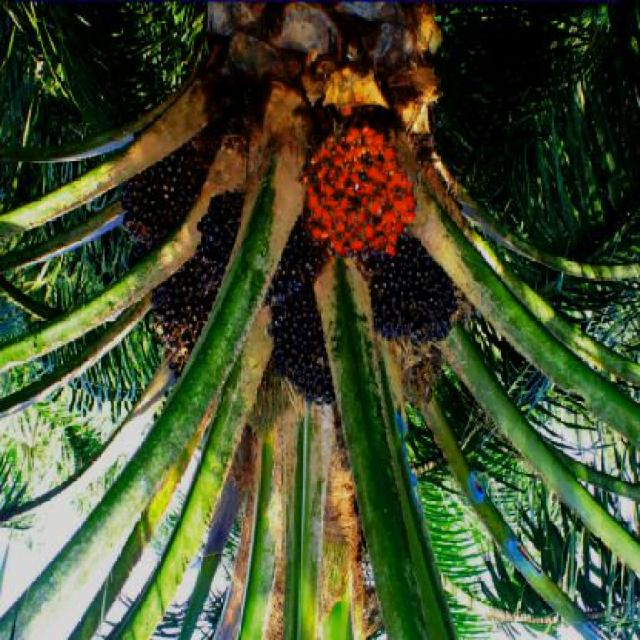palm-oil: (300, 102, 425, 265), (124, 133, 225, 235), (374, 246, 463, 337), (281, 291, 350, 403), (159, 272, 239, 362), (203, 176, 253, 280)
